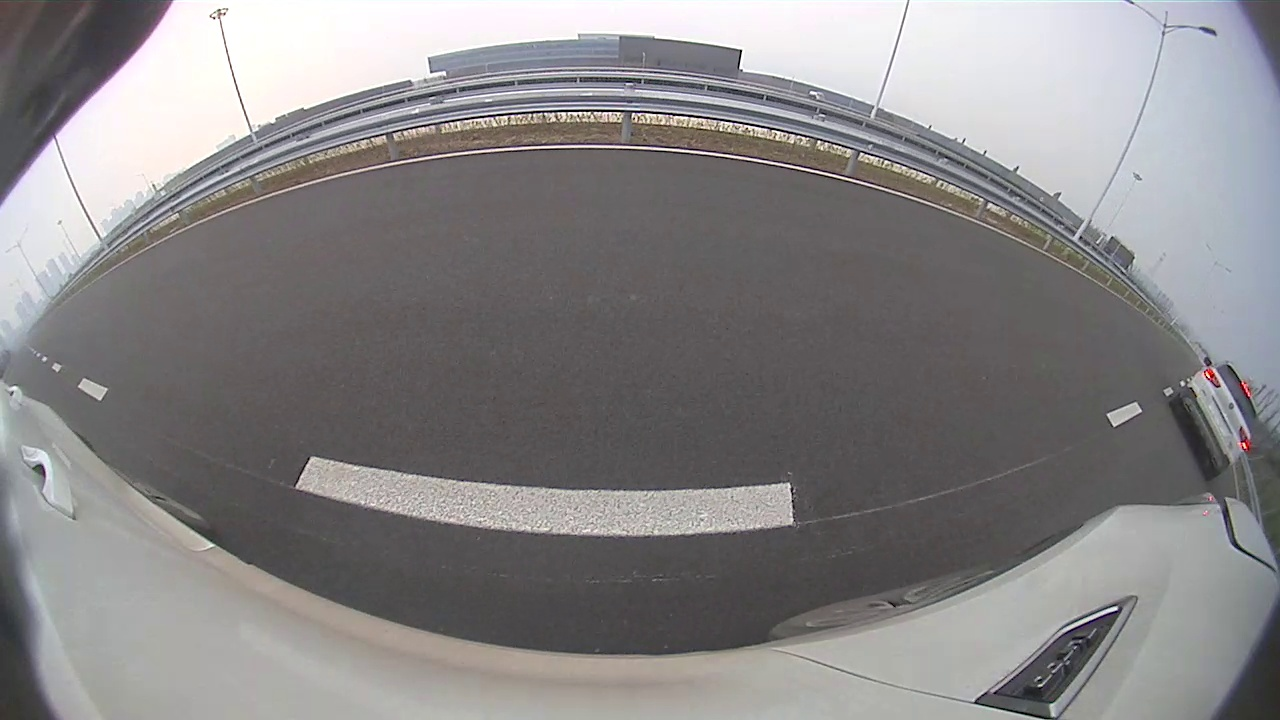car: (1167, 355, 1259, 481)
